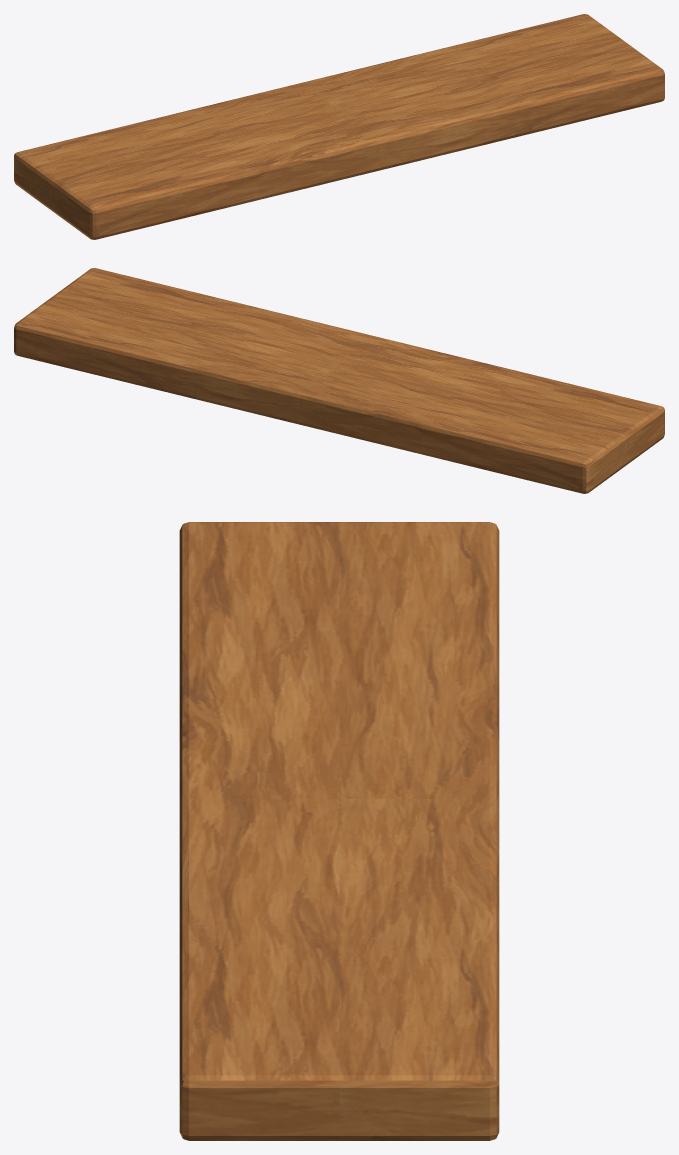
File: WC_CAFE_Window_Sill_A.glb
3 renders of one model, top to bottom at view 1: azimuth 30°, elevation 25°; view 2: azimuth 150°, elevation 25°; view 3: azimuth 270°, elevation 25°, orthographic. The views are drawn at different scales.
Visible parts, largest first — view 1: WC_CAFE_Window_Sill_A_RenderMesh; view 2: WC_CAFE_Window_Sill_A_RenderMesh; view 3: WC_CAFE_Window_Sill_A_RenderMesh.
Part boxes in pixels (left/top/right/bottom): WC_CAFE_Window_Sill_A_RenderMesh: left=14, top=14, right=664, bottom=239; WC_CAFE_Window_Sill_A_RenderMesh: left=14, top=268, right=664, bottom=493; WC_CAFE_Window_Sill_A_RenderMesh: left=179, top=522, right=499, bottom=1140.
Size of the model in its own units: 1.66 by 0.09 by 0.4.
Materials: 1 (1 with a texture image).
